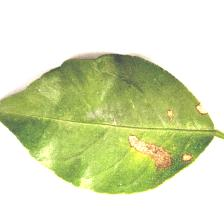canker: (111, 92, 209, 176)
